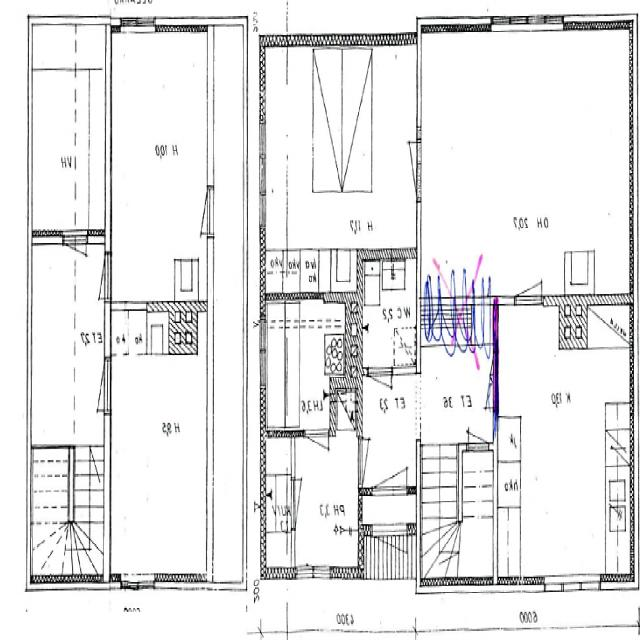door: (372, 525, 406, 607), (372, 418, 407, 494), (388, 142, 422, 199), (79, 358, 111, 410), (516, 243, 542, 305), (62, 228, 87, 292), (183, 184, 214, 233), (368, 364, 393, 422), (291, 478, 320, 528), (304, 427, 328, 487), (82, 252, 110, 300), (358, 438, 385, 482), (468, 400, 489, 451)
